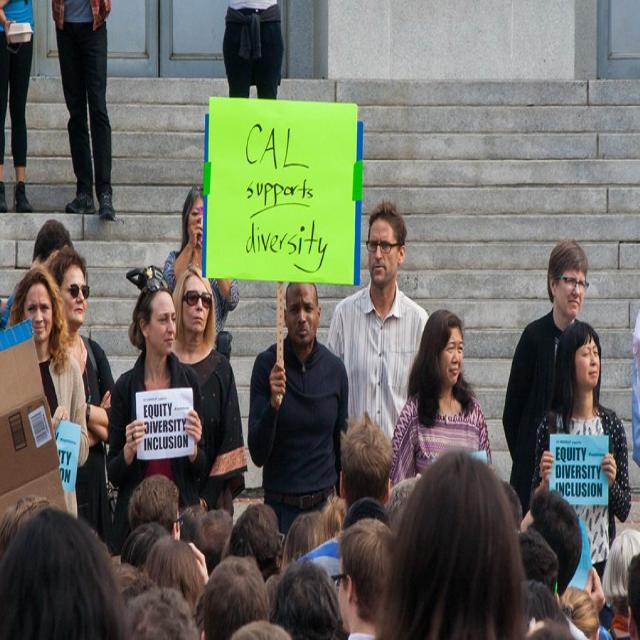body: (0, 452, 640, 640), (104, 281, 208, 554), (325, 197, 432, 457), (529, 319, 632, 587), (246, 282, 349, 546), (501, 236, 591, 521), (44, 243, 116, 552), (5, 264, 91, 521), (170, 264, 250, 514), (388, 308, 493, 492), (297, 415, 394, 584), (47, 0, 117, 221), (158, 183, 242, 362), (0, 217, 73, 329), (0, 0, 36, 214), (220, 0, 286, 102), (629, 289, 640, 448)
